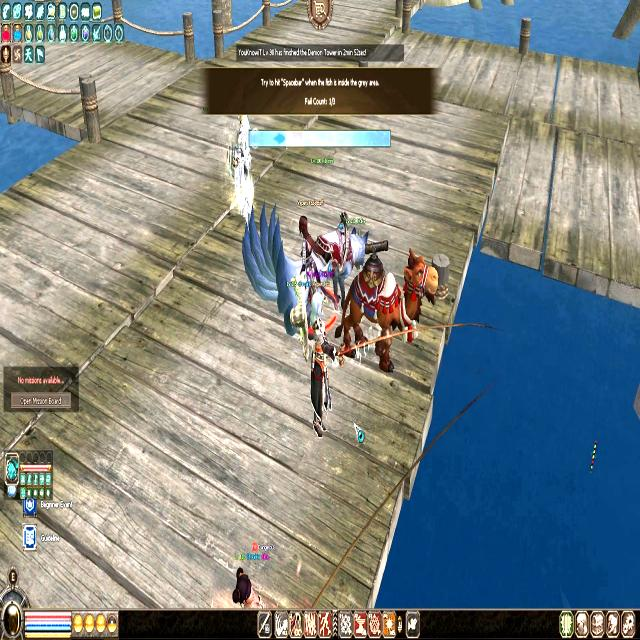fishes: (274, 132, 286, 146)
